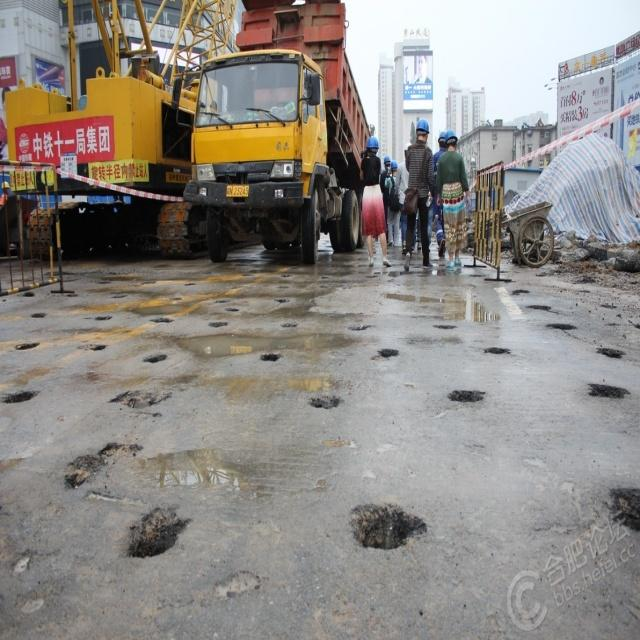helmet: (416, 157, 430, 191), (444, 171, 458, 201), (366, 180, 378, 207), (438, 175, 447, 200), (404, 188, 413, 211), (390, 213, 399, 232), (1, 240, 10, 259), (383, 205, 391, 224)
